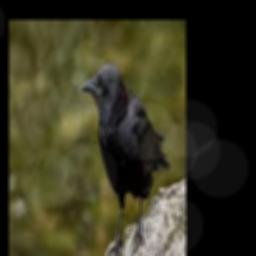Crow: (80, 65, 169, 256)
